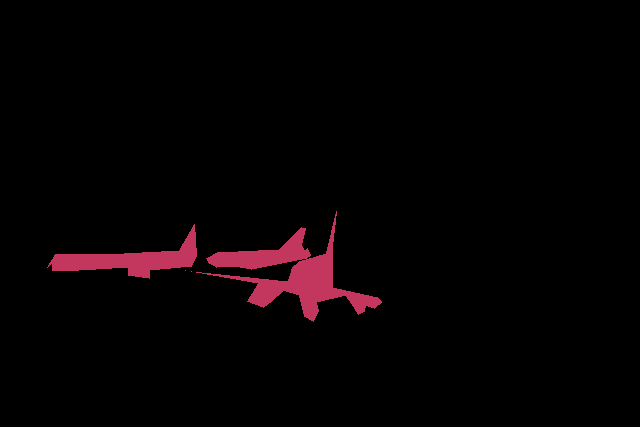Airplane: (185, 211, 381, 321), (47, 224, 197, 278), (206, 227, 311, 269)
